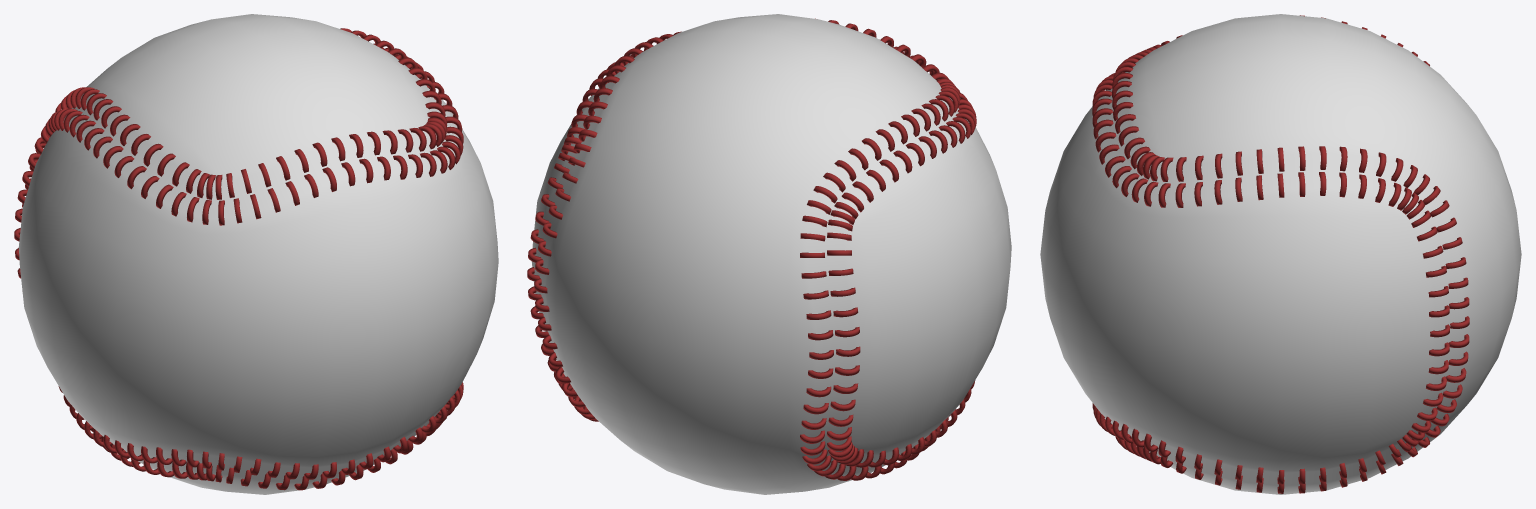
The model's file is pelota02.glb.
3 renders of one model, left to right at view 1: azimuth 30°, elevation 25°; view 2: azimuth 150°, elevation 25°; view 3: azimuth 270°, elevation 25°, orthographic.
Parts seen in each view (by area): view 1: Cube.002; view 2: Cube.002; view 3: Cube.002.
Boxes of the visible parts, x1,y1,x2,y2 form: Cube.002: [14, 14, 498, 494]; Cube.002: [527, 14, 1011, 494]; Cube.002: [1040, 14, 1521, 494].
Bounding box in the file's own units: 0.0645 × 0.0645 × 0.0645.
